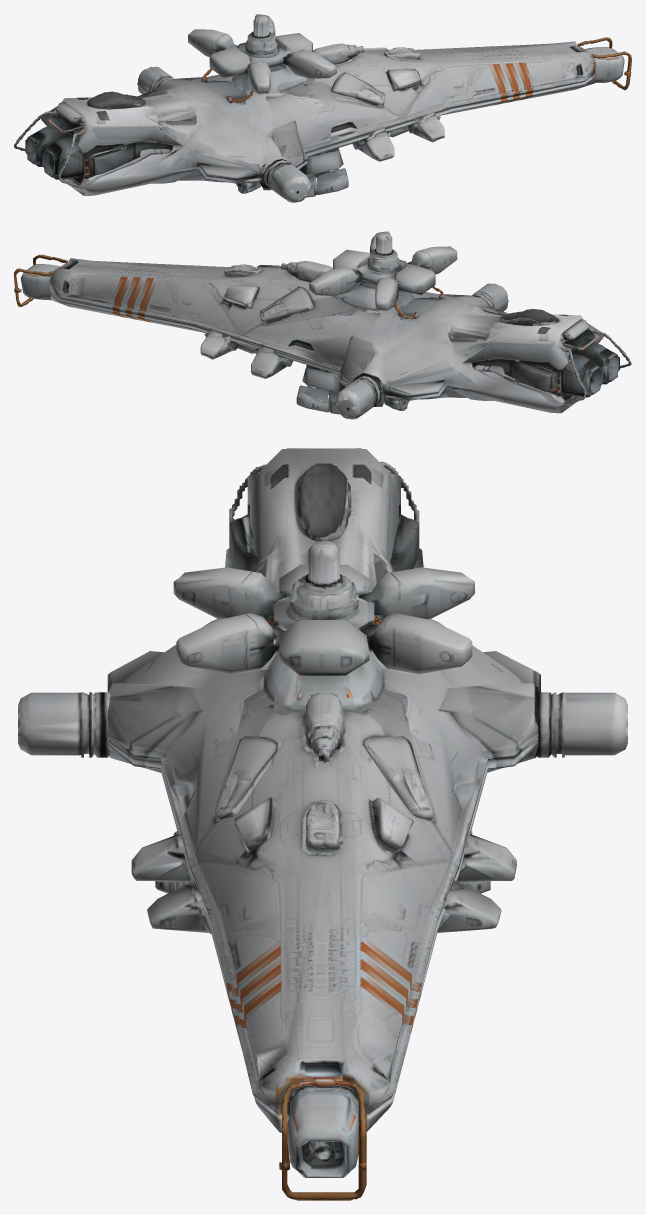
The model's file is b276863c-99f6-4286-acb1-6e9d6441e1e3_model.glb.
3 renders of one model, top to bottom at view 1: azimuth 30°, elevation 25°; view 2: azimuth 150°, elevation 25°; view 3: azimuth 270°, elevation 25°, orthographic. The views are drawn at different scales.
Visible parts, largest first — view 1: tripo_node_b276863c-99f6-4286-acb1-6e9d6441e1e3; view 2: tripo_node_b276863c-99f6-4286-acb1-6e9d6441e1e3; view 3: tripo_node_b276863c-99f6-4286-acb1-6e9d6441e1e3.
Part boxes in pixels (x1,y1,x2,y2): tripo_node_b276863c-99f6-4286-acb1-6e9d6441e1e3: (14,14,631,202); tripo_node_b276863c-99f6-4286-acb1-6e9d6441e1e3: (14,231,631,419); tripo_node_b276863c-99f6-4286-acb1-6e9d6441e1e3: (18,448,627,1200).
Size of the model in its own units: 4.61 by 1.2 by 2.08.
Materials: 1 (1 with a texture image).
